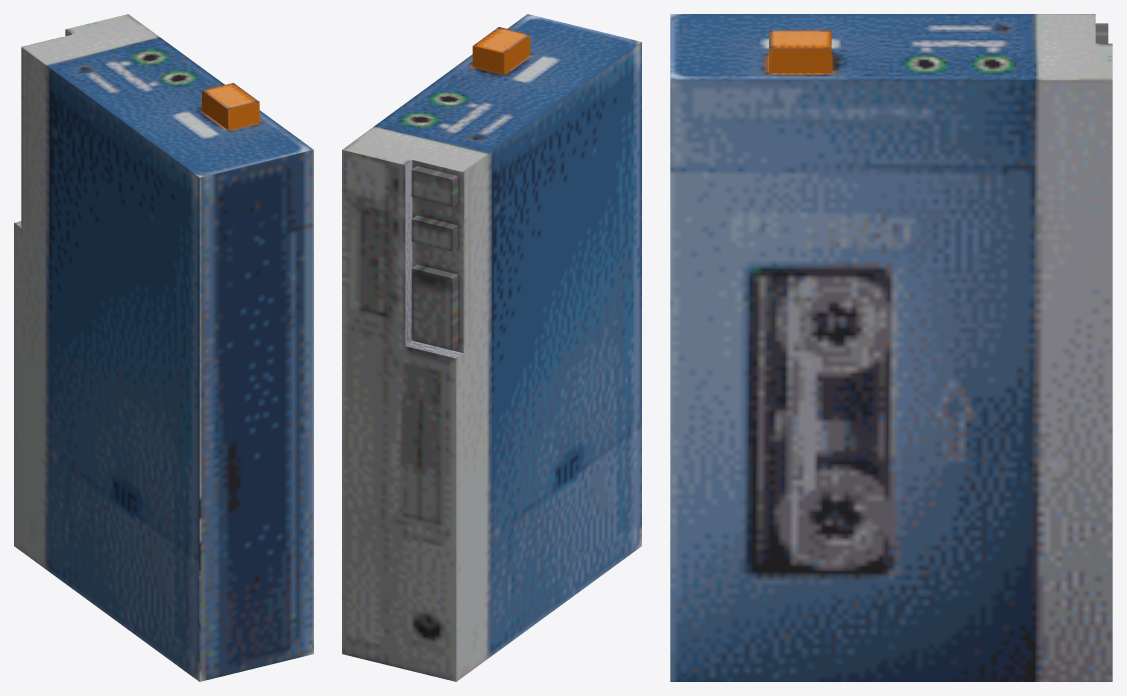
Rendered from Хз че это честно.fbx.
3 views of the same model, side by side, from view 1: azimuth 30°, elevation 25°; view 2: azimuth 150°, elevation 25°; view 3: azimuth 270°, elevation 25° (orthographic). The views are drawn at different scales.
Parts seen in each view (by area): view 1: Walkman; view 2: Walkman; view 3: Walkman.
Boxes of the visible parts, bbox=[...] form: Walkman: bbox=[14, 14, 313, 681]; Walkman: bbox=[342, 14, 641, 681]; Walkman: bbox=[670, 14, 1112, 681].
Size of the model in its own units: 3.2 by 14.05 by 9.
Materials: 2 (2 with a texture image).
